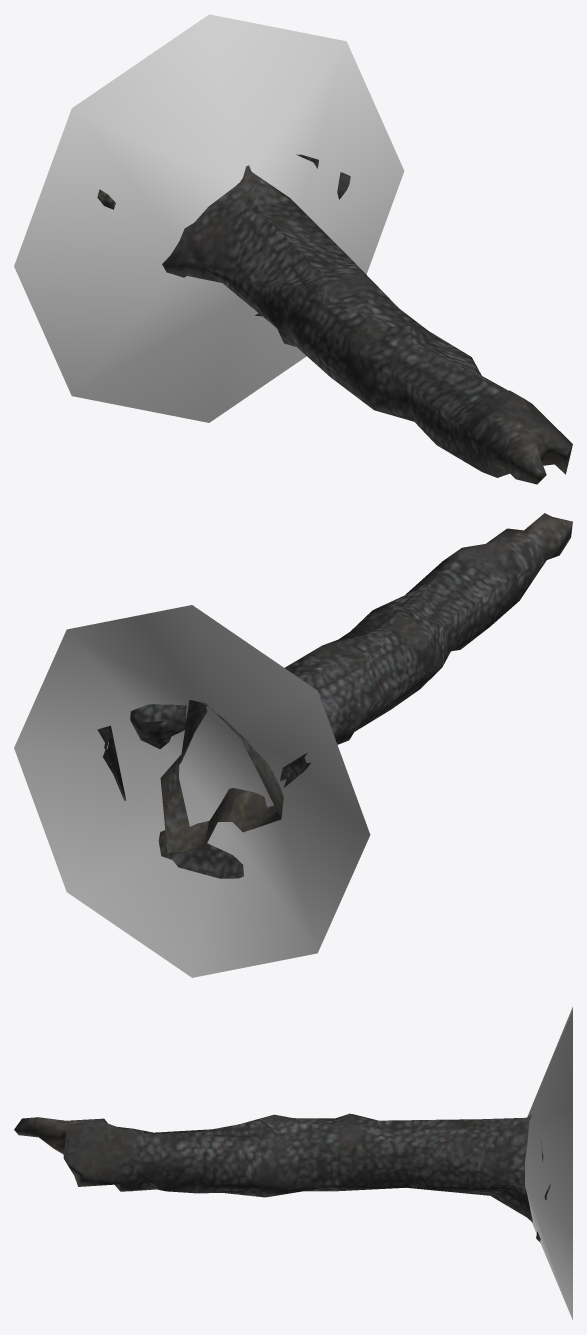
The model's file is hd_env_UNI_007_SnagHeap_08.fbx.
3 views of the same model, one above another, from view 1: azimuth 30°, elevation 25°; view 2: azimuth 150°, elevation 25°; view 3: azimuth 270°, elevation 25° (orthographic). The views are drawn at different scales.
Visible parts, largest first — view 1: set_0_group_0, set_0_group_2, set_0_group_1; view 2: set_0_group_0, set_0_group_2, set_0_group_1; view 3: set_0_group_2, set_0_group_0, set_0_group_1.
Part boxes in pixels (x1,y1,x2,y2): set_0_group_0: (14, 14, 404, 422); set_0_group_2: (187, 172, 572, 484); set_0_group_1: (97, 154, 350, 316); set_0_group_0: (14, 605, 370, 977); set_0_group_2: (235, 513, 572, 799); set_0_group_1: (97, 700, 310, 878); set_0_group_2: (14, 1113, 521, 1197); set_0_group_0: (525, 1007, 572, 1319); set_0_group_1: (474, 1114, 550, 1242).
Size of the model in its own units: 156 by 156 by 259.
